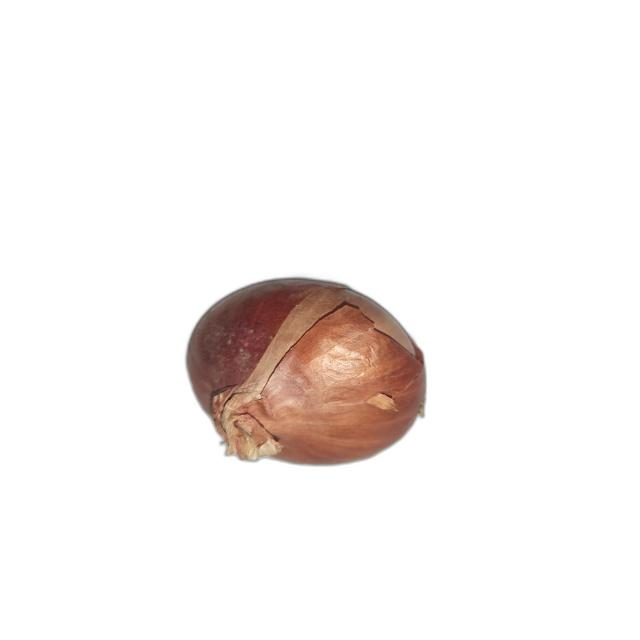onion: (185, 277, 427, 466)
